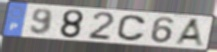2: (88, 11, 117, 42)
6: (150, 16, 177, 45)
8: (59, 9, 85, 40)
9: (28, 8, 53, 36)
A: (173, 17, 207, 49)
C: (116, 14, 148, 43)
